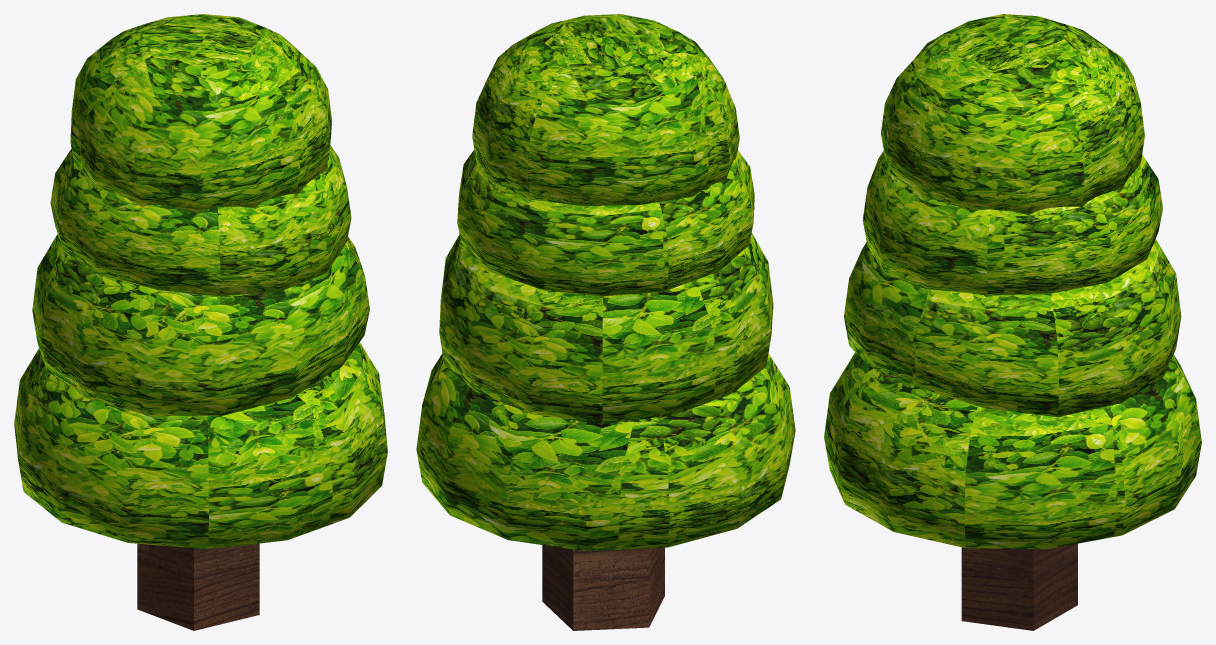
File: SimpleTreeLeveled.fbx
The picture shows the model from 3 angles, left to right: view 1: azimuth 30°, elevation 25°; view 2: azimuth 150°, elevation 25°; view 3: azimuth 270°, elevation 25°; orthographic projection.
Parts seen in each view (by area): view 1: Cylinder.006; view 2: Cylinder.006; view 3: Cylinder.006.
Boxes of the visible parts, x1,y1,x2,y2 form: Cylinder.006: (14,14,387,630); Cylinder.006: (416,14,795,630); Cylinder.006: (824,14,1201,630).
Bounding box in the file's own units: 252 × 421 × 256.
